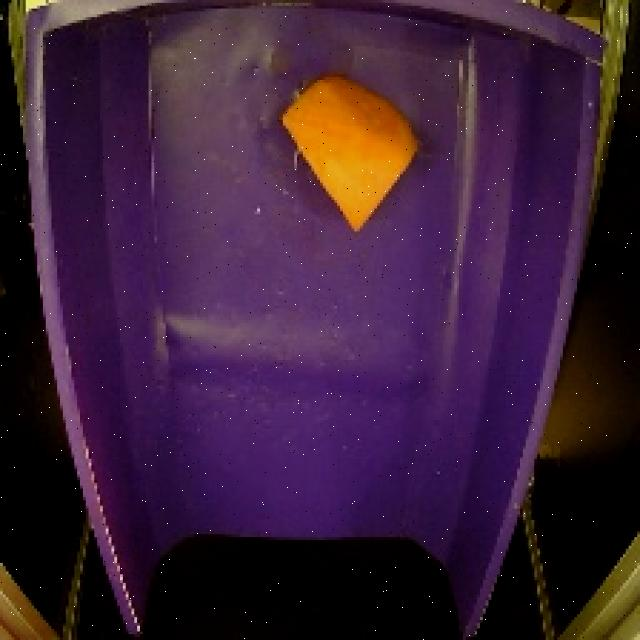carrots: (270, 66, 426, 244)
